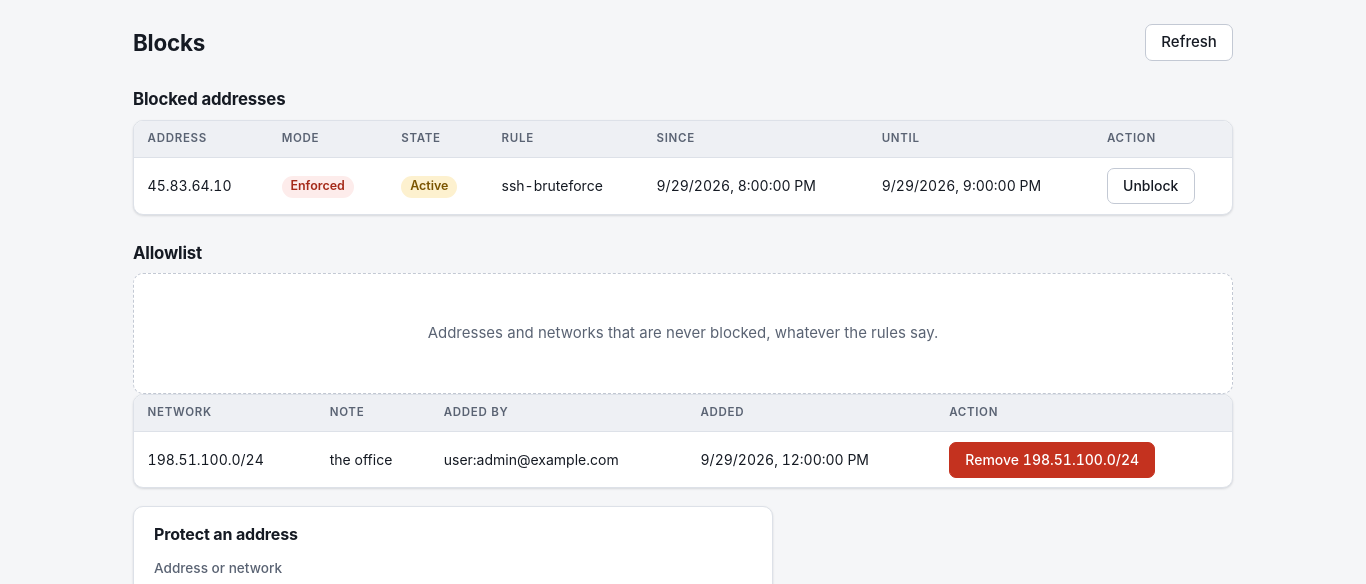
Test case: Blocks › shows the server's message when an unblock fails
The width and height of the screenshot is (1366, 584).
Click the button "Unblock": coordinates (1151, 186) top-left (1107, 168), bottom-right (1195, 204)
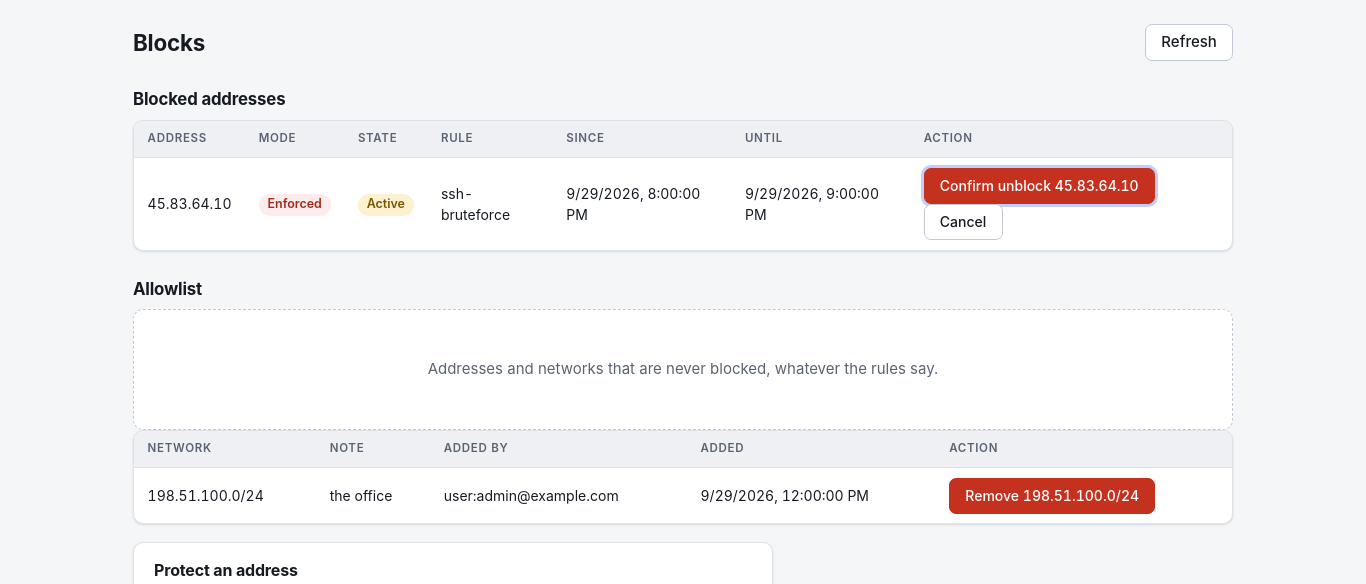
Click the button "Confirm unblock 45.83.64.10": coordinates (1039, 186) top-left (924, 168), bottom-right (1155, 204)
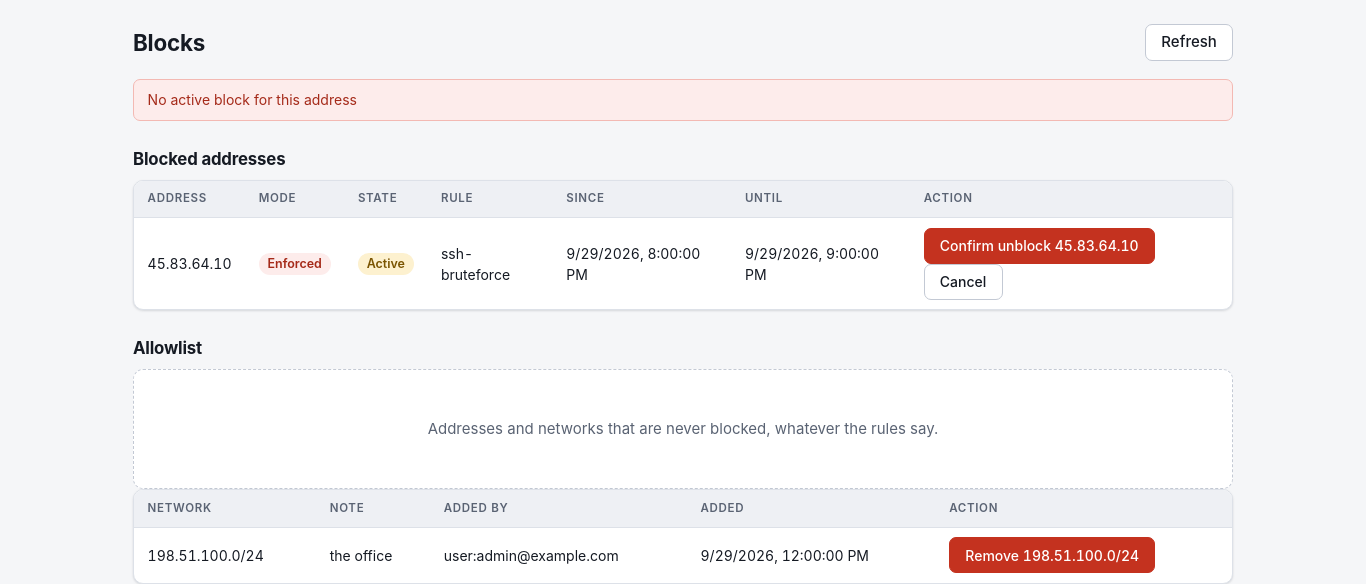
Check: the message reads "No active block for this address", box top-left (148, 92), bottom-right (357, 108)
